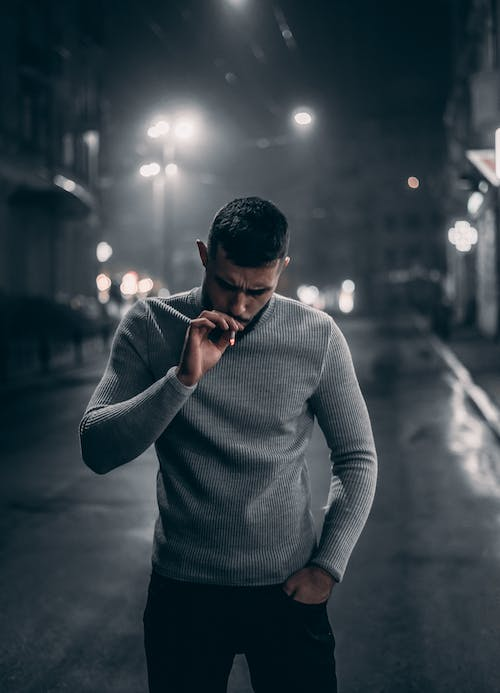cigarette: (228, 328, 238, 348)
